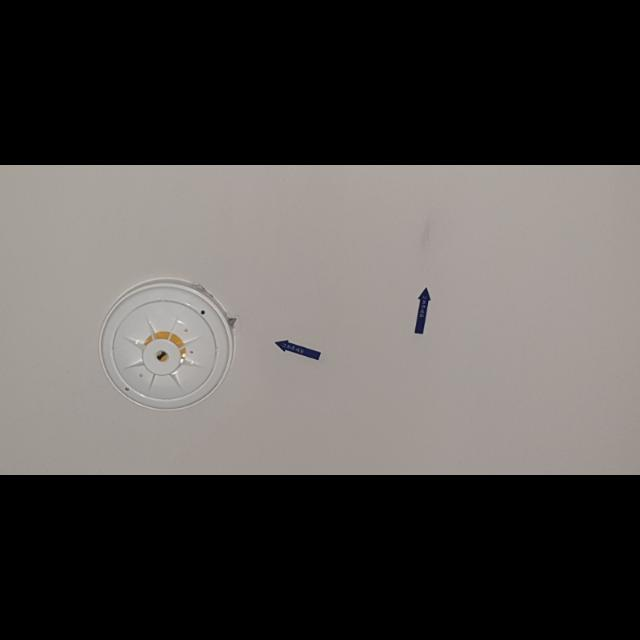Smoke-Detector: (98, 278, 234, 412)
